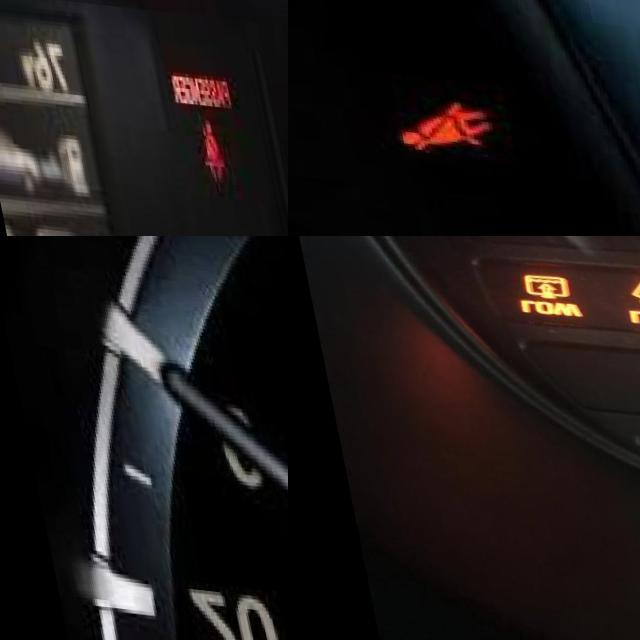Seat Belt: (374, 84, 478, 160), (179, 114, 214, 175)
Washer Fluid: (618, 268, 640, 305)
